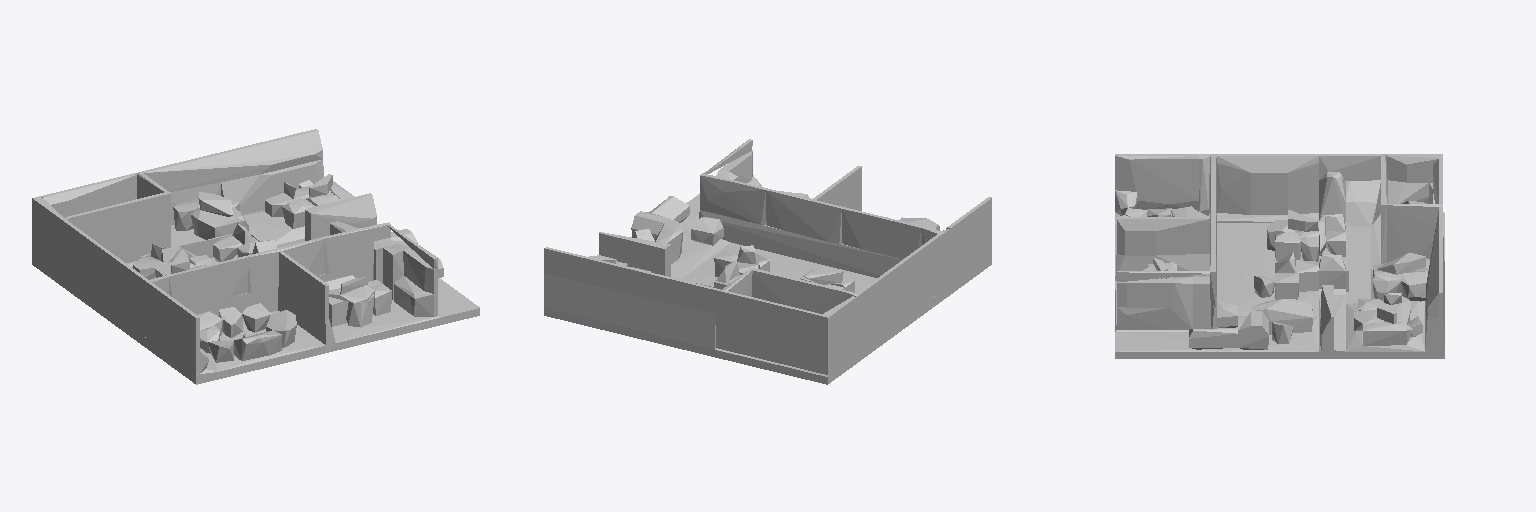
The model's file is office_vhacd2.obj.
3 renders of one model, left to right at view 1: azimuth 30°, elevation 25°; view 2: azimuth 150°, elevation 25°; view 3: azimuth 270°, elevation 25°, orthographic.
Visible parts, largest first — view 1: convex_0, convex_18, convex_6, convex_41, convex_2, convex_7, convex_35, convex_67, convex_42, convex_43, convex_53, convex_15 (+26 smaller); view 2: convex_0, convex_23, convex_2, convex_27, convex_6, convex_42, convex_41, convex_18, convex_43, convex_35, convex_77, convex_7 (+18 smaller); view 3: convex_6, convex_8, convex_7, convex_45, convex_16, convex_24, convex_11, convex_9, convex_28, convex_10, convex_57, convex_4 (+26 smaller).
Part boxes in pixels (bbox=[...]): convex_0: bbox=[142, 129, 322, 191]; convex_18: bbox=[70, 191, 170, 262]; convex_6: bbox=[94, 243, 147, 336]; convex_41: bbox=[167, 256, 248, 307]; convex_2: bbox=[221, 159, 323, 214]; convex_7: bbox=[155, 287, 199, 365]; convex_35: bbox=[41, 173, 136, 217]; convex_67: bbox=[332, 300, 440, 350]; convex_42: bbox=[248, 237, 324, 292]; convex_43: bbox=[323, 222, 390, 273]; convex_53: bbox=[208, 311, 325, 379]; convex_15: bbox=[305, 193, 376, 240]; convex_0: bbox=[544, 247, 720, 314]; convex_23: bbox=[699, 210, 902, 277]; convex_2: bbox=[544, 273, 641, 339]; convex_27: bbox=[642, 297, 715, 356]; convex_6: bbox=[888, 234, 941, 327]; convex_42: bbox=[766, 189, 842, 243]; convex_41: bbox=[842, 207, 922, 258]; convex_18: bbox=[749, 268, 849, 313]; convex_43: bbox=[700, 173, 767, 224]; convex_35: bbox=[726, 291, 821, 339]; convex_77: bbox=[726, 317, 794, 366]; convex_7: bbox=[946, 197, 991, 283]; convex_6: bbox=[1217, 154, 1318, 214]; convex_8: bbox=[1217, 223, 1318, 315]; convex_7: bbox=[1115, 154, 1198, 211]; convex_45: bbox=[1117, 217, 1209, 255]; convex_16: bbox=[1387, 204, 1442, 262]; convex_24: bbox=[1115, 332, 1216, 358]; convex_11: bbox=[1346, 301, 1424, 358]; convex_9: bbox=[1217, 316, 1318, 358]; convex_28: bbox=[1346, 227, 1370, 303]; convex_10: bbox=[1346, 180, 1380, 226]; convex_57: bbox=[1117, 279, 1171, 307]; convex_4: bbox=[1319, 154, 1380, 180].
Size of the model in its own units: 10.12 by 2.31 by 10.17.